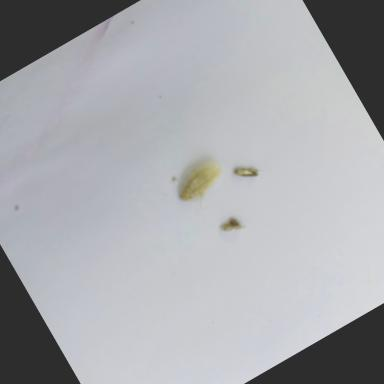pbw: (231, 156, 263, 188)
